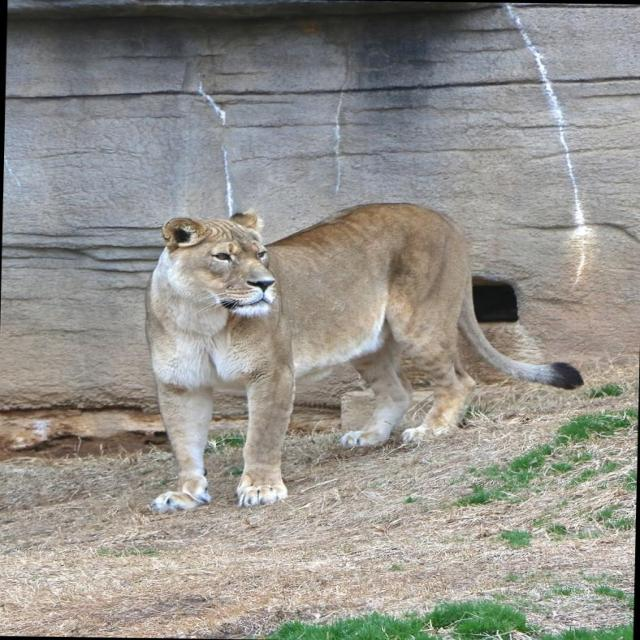Lion: (140, 199, 588, 519)
